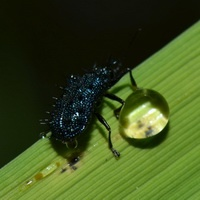insect: (49, 61, 129, 156)
